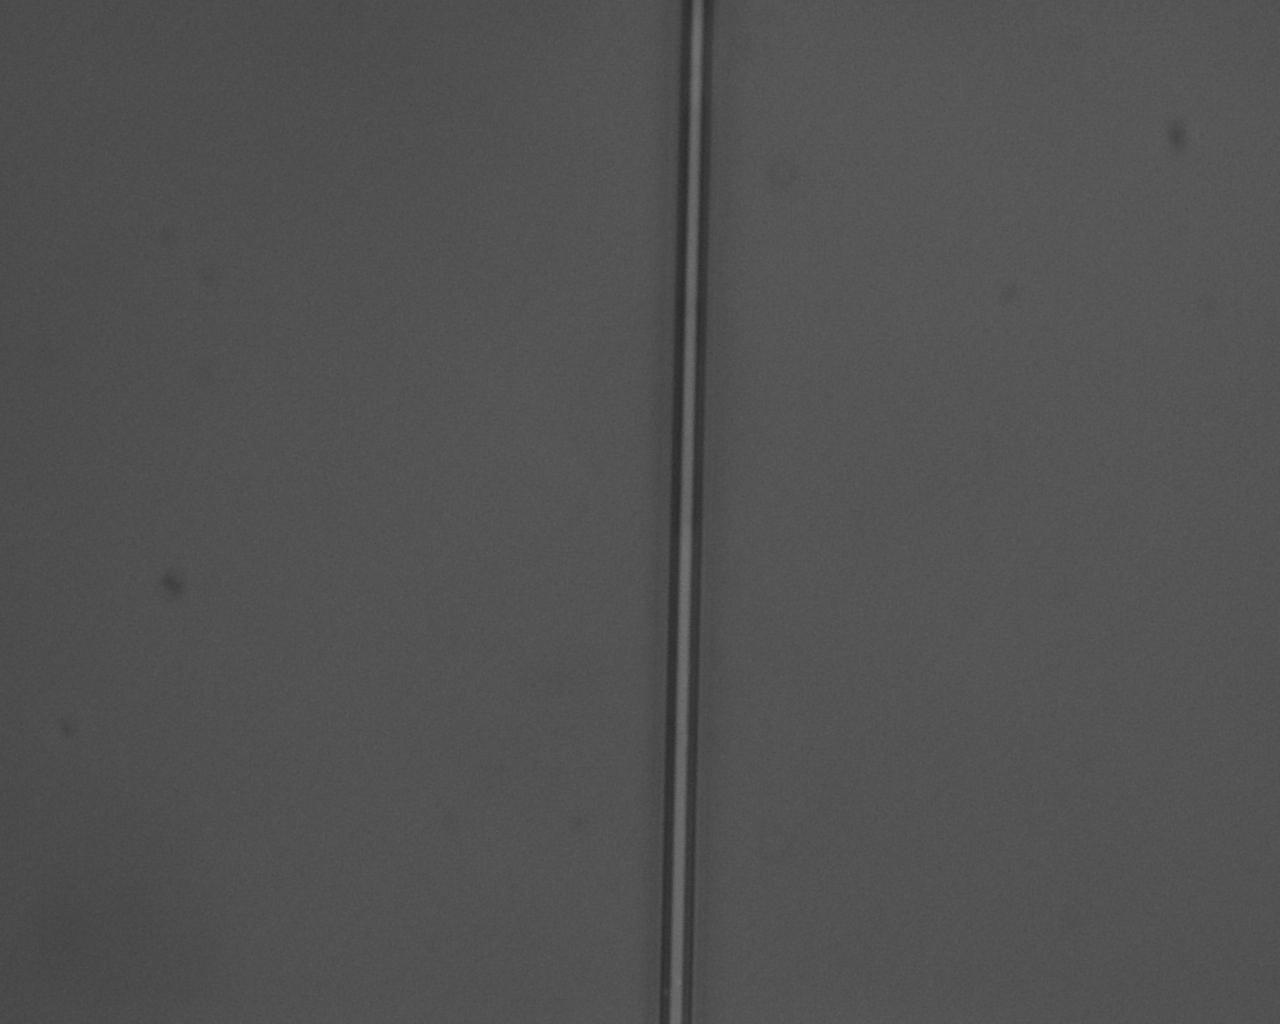fiber: (524, 138, 1280, 391), (524, 726, 1232, 801), (18, 776, 524, 827)
